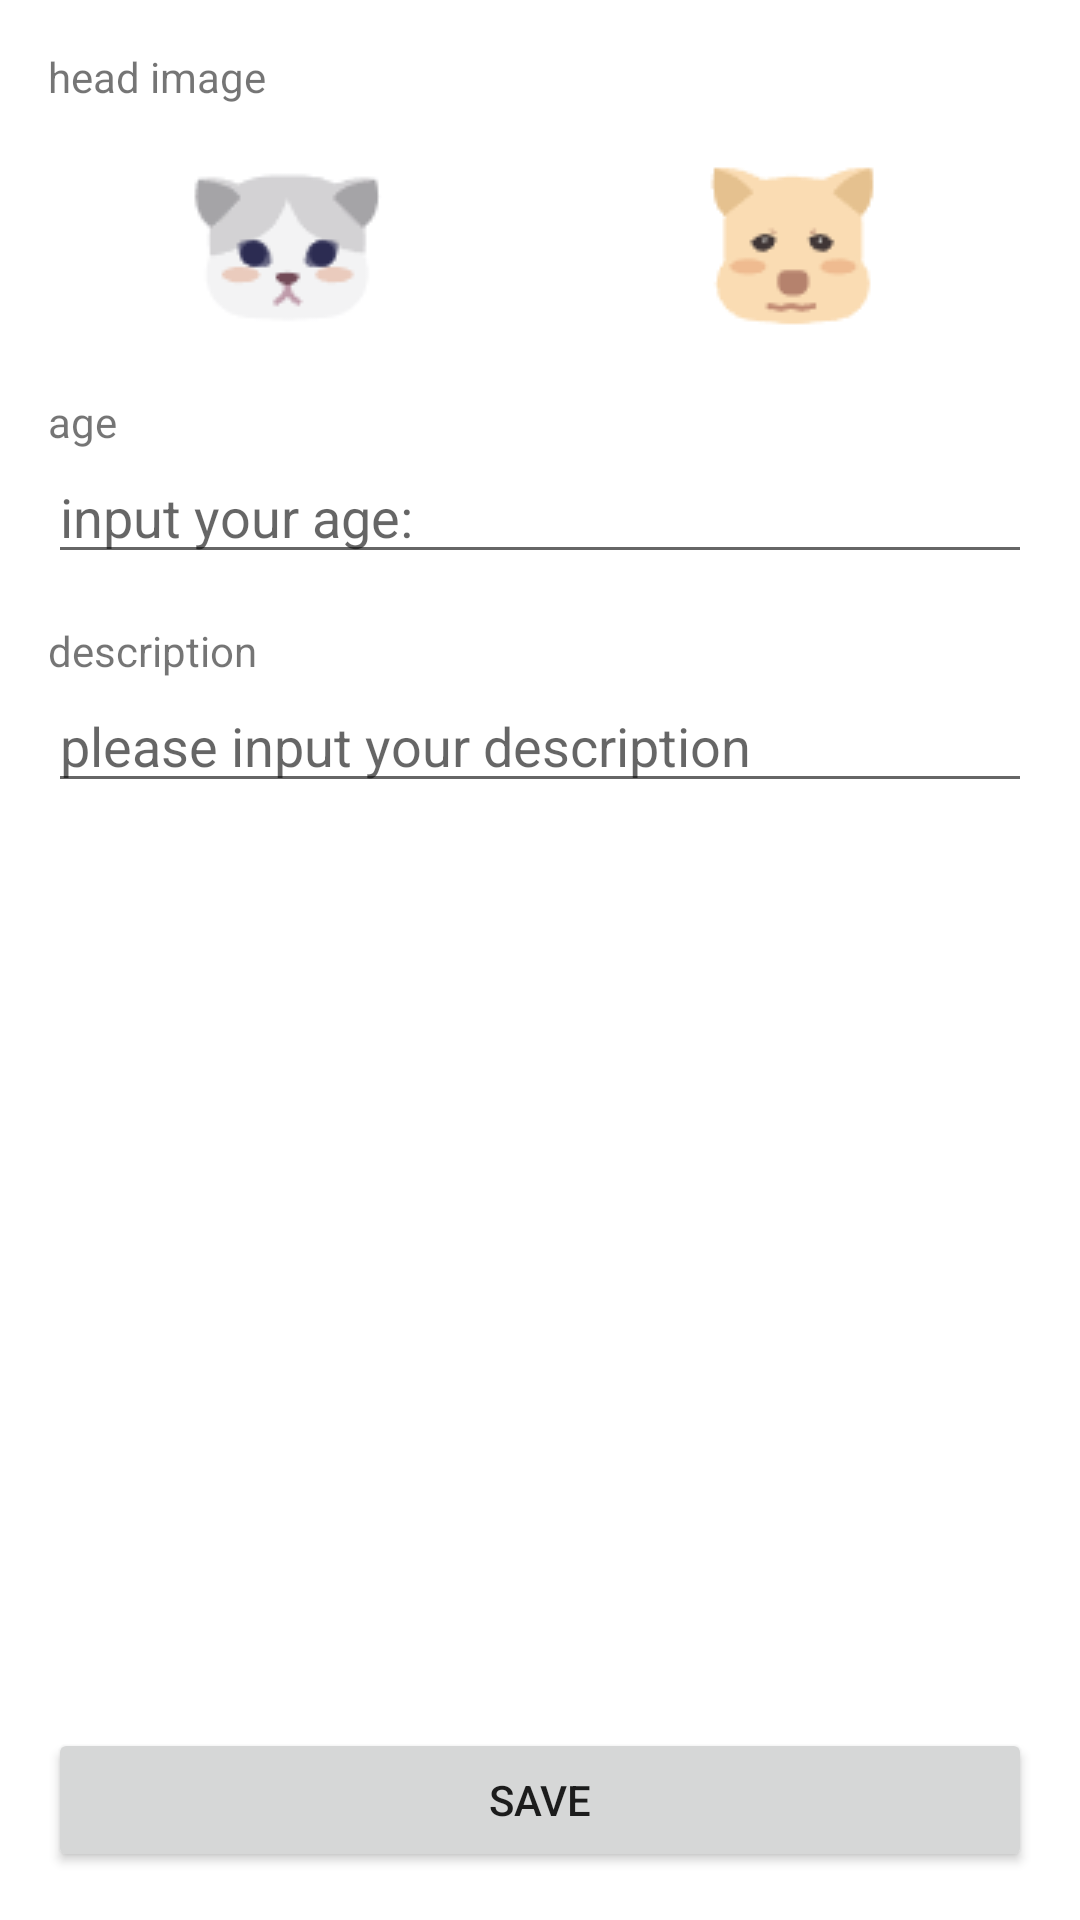

Where icons sit on this 1080px x 1920px app screen, as (x1, y1, x2, y2):
cat: (194, 176, 379, 307)
dog: (711, 167, 874, 325)
